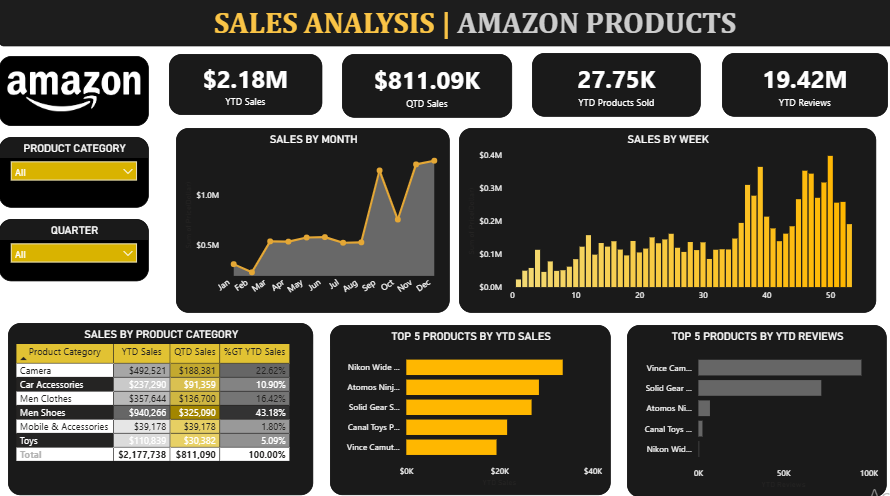

This screenshot's page, from the dashboard's own definition file:
{"tool":"powerbi","page":{"name":"Page 1","canvas":[1280,720],"ordinal":0},"visuals":[{"type":"pivotTable","title":"SALES BY PRODUCT CATEGORY","fields":{"Rows":["Amazon_Data.Product Category"],"Values":["Amazon_Data.YTD Sales1","Amazon_Data.QTD Sales","Amazon_Data.YTD Sales"]},"box":[12.9,464.3,435.7,245.7],"z":0},{"type":"textbox","box":[0,0,1280,68.6],"z":1000},{"type":"card","fields":{"Values":["Amazon_Data.YTD Sales"]},"box":[242.9,80,218.6,87.1],"z":2000,"group":"g1"},{"type":"barChart","title":"TOP 5 PRODUCTS BY YTD SALES","fields":{"Category":["Amazon_Data.Product Description"],"Y":["Amazon_Data.YTD Sales"]},"box":[472.4,467,401.4,242.9],"z":2000},{"type":"card","fields":{"Values":["Amazon_Data.QTD Sales"]},"box":[490.3,79,242.9,91.4],"z":3000,"group":"g1"},{"type":"group","id":"g1","title":"Group 1","box":[242.9,78,1026.5,92.4],"z":3000},{"type":"card","fields":{"Values":["Amazon_Data.YTD Reviews"]},"box":[1032.2,78,237.1,91.4],"z":4000,"group":"g1"},{"type":"barChart","title":"TOP 5 PRODUCTS BY  YTD REVIEWS","fields":{"Category":["Amazon_Data.Product Description"],"Y":["Amazon_Data.YTD Reviews"]},"box":[897.6,467,371.4,245.7],"z":4000},{"type":"card","fields":{"Values":["Amazon_Data.YTD Products Sold"]},"box":[762,78.4,241.4,91.4],"z":5000,"group":"g1"},{"type":"lineChart","title":"SALES BY MONTH","fields":{"Category":["Date table.MONTH NAME"],"Y":["Amazon_Data.Price(Dollar)"]},"box":[252.5,185.5,391.4,264.3],"z":5000},{"type":"columnChart","title":"SALES BY WEEK","fields":{"Category":["Date table.Week Number"],"Y":["Amazon_Data.Price(Dollar)"]},"box":[657.1,186.1,595.7,264.3],"z":6000},{"type":"slicer","title":"PRODUCT  CATEGORY","fields":{"Values":["Amazon_Data.Product Category"]},"box":[0,198.6,214.3,101.4],"z":7000},{"type":"slicer","title":"QUARTER","fields":{"Values":["Date table.QTR"]},"box":[0,315.7,214.3,88.6],"z":8000},{"type":"image","box":[0,82.9,214.3,100],"z":9000}]}

Visuals, with their boxes in screenshot pixels (x1, y1, x2, y2), scaled from the page's 1280x720 canvas onto the 890x496 screenshot:
"SALES BY PRODUCT CATEGORY" pivotTable: <box>9,320,312,489</box>
textbox: <box>0,0,889,47</box>
card - Amazon_Data.YTD Sales: <box>169,55,321,115</box>
"TOP 5 PRODUCTS BY YTD SALES" barChart: <box>328,322,608,489</box>
card - Amazon_Data.QTD Sales: <box>341,54,510,117</box>
"Group 1" group: <box>169,54,883,117</box>
card - Amazon_Data.YTD Reviews: <box>718,54,883,117</box>
"TOP 5 PRODUCTS BY  YTD REVIEWS" barChart: <box>624,322,882,491</box>
card - Amazon_Data.YTD Products Sold: <box>530,54,698,117</box>
"SALES BY MONTH" lineChart: <box>176,128,448,310</box>
"SALES BY WEEK" columnChart: <box>457,128,871,310</box>
"PRODUCT  CATEGORY" slicer: <box>0,137,149,207</box>
"QUARTER" slicer: <box>0,217,149,279</box>
image: <box>0,57,149,126</box>
